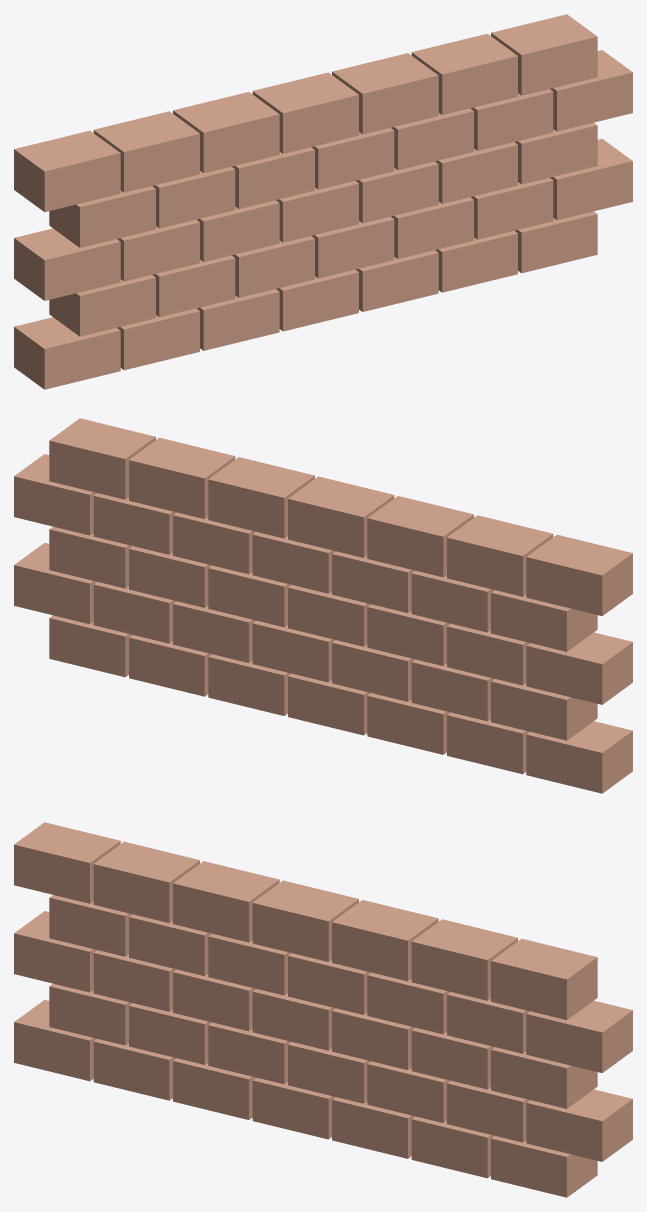
File: brick_wall.glb
3 views of the same model, one above another, from view 1: azimuth 30°, elevation 25°; view 2: azimuth 150°, elevation 25°; view 3: azimuth 330°, elevation 25° (orthographic).
Visible parts, largest first — view 1: brick_wall_028, brick_wall_014, brick_wall_000, brick_wall_034, brick_wall_032, brick_wall_031, brick_wall_033, brick_wall_029, brick_wall_030, brick_wall_007, brick_wall_021, brick_wall_013 (+23 smaller); view 2: brick_wall_028, brick_wall_014, brick_wall_000, brick_wall_034, brick_wall_032, brick_wall_031, brick_wall_033, brick_wall_029, brick_wall_030, brick_wall_007, brick_wall_021, brick_wall_013 (+23 smaller); view 3: brick_wall_034, brick_wall_027, brick_wall_013, brick_wall_028, brick_wall_031, brick_wall_033, brick_wall_029, brick_wall_030, brick_wall_032, brick_wall_006, brick_wall_020, brick_wall_014 (+23 smaller).
Part boxes in pixels (x1,y1,x2,y2): brick_wall_028: (14, 130, 120, 212); brick_wall_014: (14, 228, 120, 300); brick_wall_000: (14, 317, 120, 389); brick_wall_034: (491, 14, 597, 95); brick_wall_032: (332, 53, 438, 134); brick_wall_031: (252, 72, 358, 153); brick_wall_033: (411, 33, 517, 115); brick_wall_029: (93, 111, 199, 192); brick_wall_030: (173, 92, 279, 173); brick_wall_007: (49, 275, 155, 336); brick_wall_021: (49, 186, 155, 247); brick_wall_013: (550, 138, 632, 220); brick_wall_028: (526, 534, 632, 616); brick_wall_014: (526, 632, 632, 704); brick_wall_000: (526, 721, 632, 793); brick_wall_034: (49, 418, 155, 499); brick_wall_032: (208, 457, 314, 538); brick_wall_031: (288, 476, 394, 557); brick_wall_033: (129, 437, 235, 519); brick_wall_029: (447, 515, 553, 596); brick_wall_030: (367, 496, 473, 577); brick_wall_007: (491, 679, 597, 740); brick_wall_021: (491, 590, 597, 651); brick_wall_013: (14, 542, 96, 624); brick_wall_034: (491, 938, 597, 1019); brick_wall_027: (526, 1000, 632, 1073); brick_wall_013: (526, 1089, 632, 1161); brick_wall_028: (14, 822, 120, 903); brick_wall_031: (252, 880, 358, 961); brick_wall_033: (411, 919, 517, 1000); brick_wall_029: (93, 841, 199, 923); brick_wall_030: (173, 861, 279, 942); brick_wall_032: (332, 900, 438, 981); brick_wall_006: (491, 1136, 597, 1197); brick_wall_020: (491, 1047, 597, 1108); brick_wall_014: (14, 911, 96, 992).
Size of the model in its own units: 3.33 by 1.18 by 0.3.
